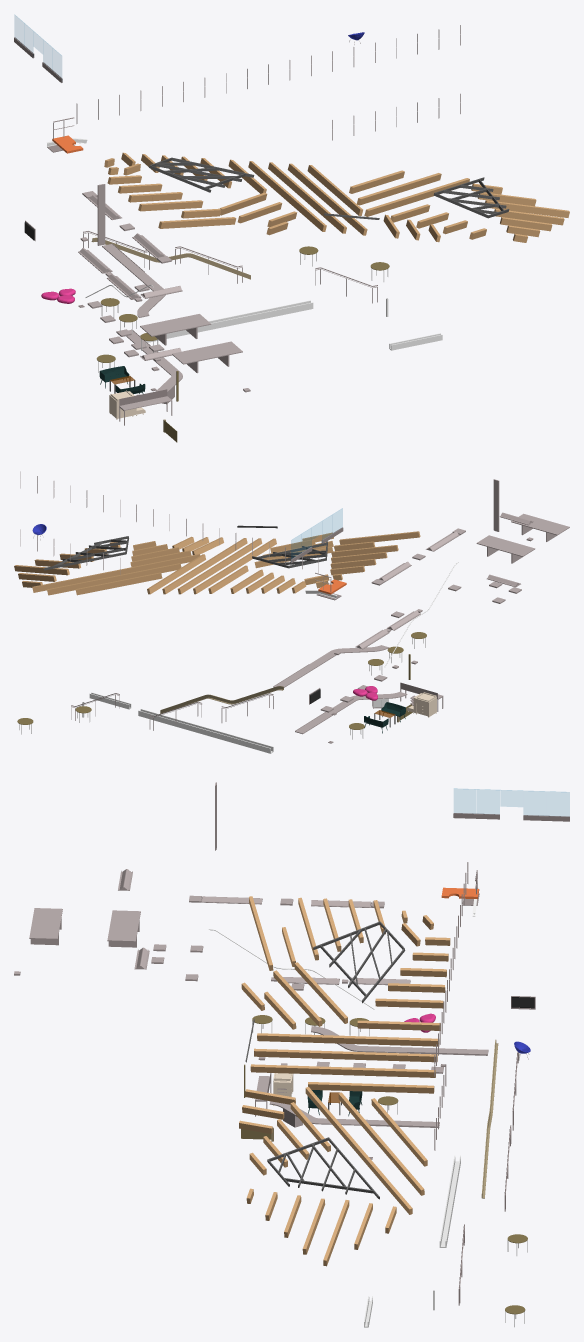
The picture shows the model from 3 angles, top to bottom: view 1: azimuth 30°, elevation 25°; view 2: azimuth 150°, elevation 25°; view 3: azimuth 270°, elevation 25°; orthographic projection. The views are drawn at different scales.
Visible parts, largest first — view 1: 16, 5, 2, 4, 11, 1, 15, 0, 6; view 2: 16, 5, 4, 2, 11, 15, 1, 0, 10, 6; view 3: 16, 5, 2, 15, 4, 11, 1, 0.
Boxes of the visible parts, box(x1,y1,x2,y2) form: 16: box(104, 152, 569, 242); 5: box(25, 25, 460, 425); 2: box(109, 157, 509, 393); 4: box(46, 138, 442, 372); 11: box(14, 37, 377, 405); 1: box(96, 246, 389, 442); 15: box(15, 15, 61, 77); 0: box(91, 237, 250, 432); 6: box(99, 366, 145, 394); 16: box(14, 531, 420, 595); 5: box(20, 471, 569, 734); 4: box(19, 562, 458, 753); 2: box(44, 525, 395, 727); 11: box(33, 527, 437, 743); 15: box(291, 508, 342, 558); 1: box(17, 632, 426, 729); 0: box(160, 686, 399, 722); 10: box(406, 692, 436, 717); 6: box(364, 702, 405, 733); 16: box(239, 896, 450, 1266); 5: box(14, 782, 535, 1150); 2: box(245, 921, 405, 1199); 15: box(454, 788, 569, 815); 4: box(208, 887, 527, 1327); 11: box(267, 813, 569, 1305); 1: box(241, 1015, 527, 1314); 0: box(271, 1039, 498, 1198).
Size of the model in its own units: 31.87 by 19.62 by 27.35.
